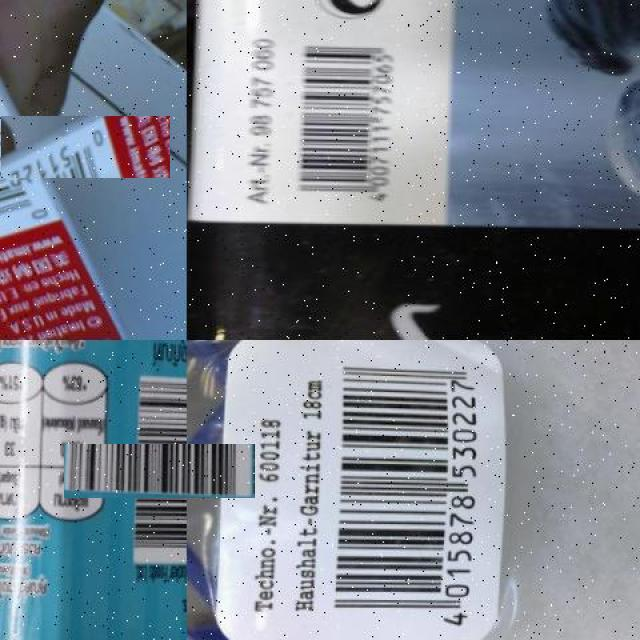Barcode: (219, 340, 508, 640), (283, 28, 409, 215), (0, 63, 117, 233), (98, 410, 221, 533)
